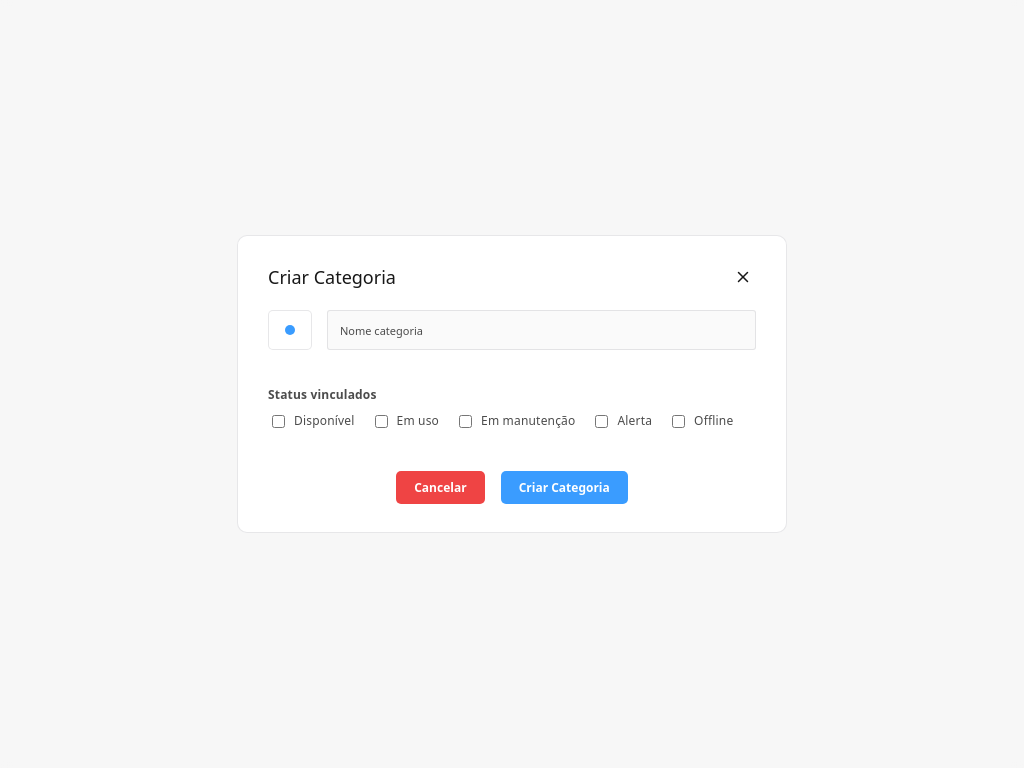
Scenario: CategoryFormModal › opens a popover with the 7 preset colors and a hex input
Expected: the field labelled "HEX" is not shown
What coordinates should you click on to do the following:
click the button named "Cor da categoria"
I would click on:
 (290, 330)
Its box is [268,310,312,350].
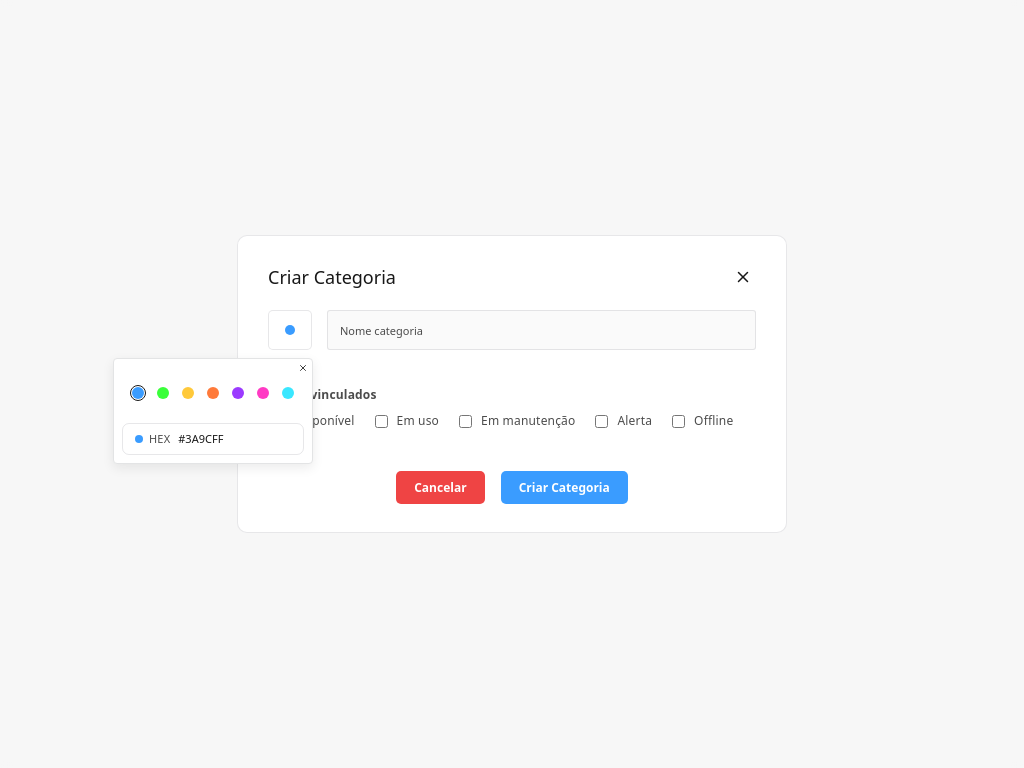
Expected: the button named "#3A9CFF" is shown, [132,387,144,399]
Expected: the button named "#3AFF3A" is shown, [157,387,169,399]
Expected: the button named "#FFC93A" is shown, [182,387,194,399]
